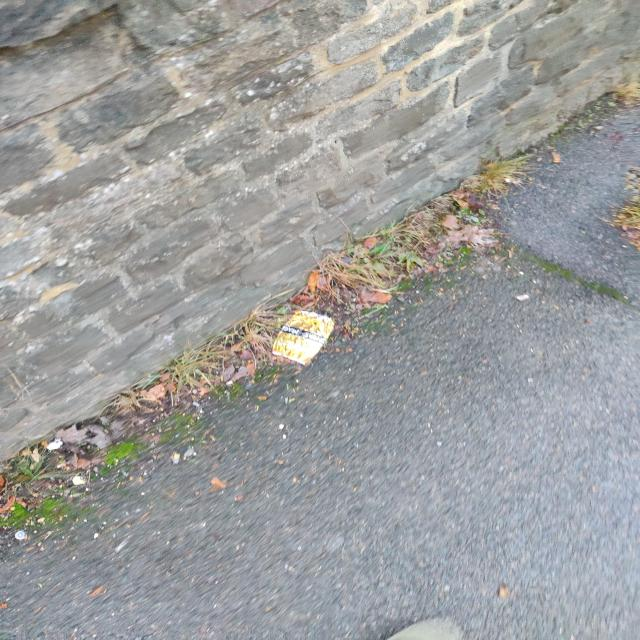litter: (249, 301, 352, 374)
